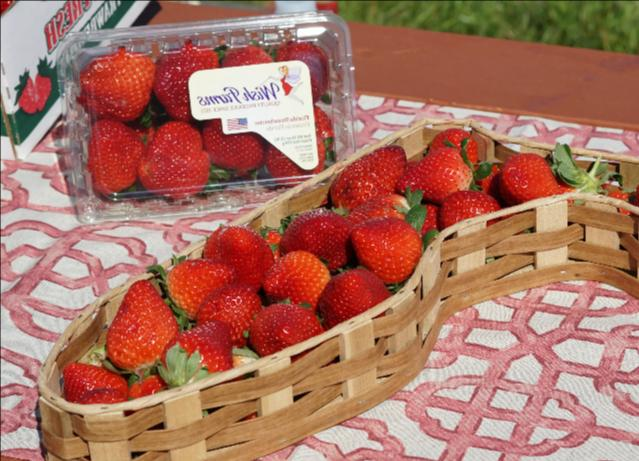Strawberries: (106, 278, 178, 370), (77, 48, 153, 120), (135, 121, 207, 195), (330, 144, 406, 208), (352, 219, 428, 277), (250, 300, 327, 356), (393, 146, 475, 198), (274, 208, 352, 262), (162, 324, 228, 384), (193, 283, 257, 343), (154, 46, 210, 114), (91, 119, 142, 192), (217, 228, 273, 292), (162, 258, 232, 306), (57, 361, 128, 407), (265, 253, 329, 303), (321, 270, 383, 320), (202, 119, 262, 169), (499, 152, 555, 202), (435, 187, 499, 227)
